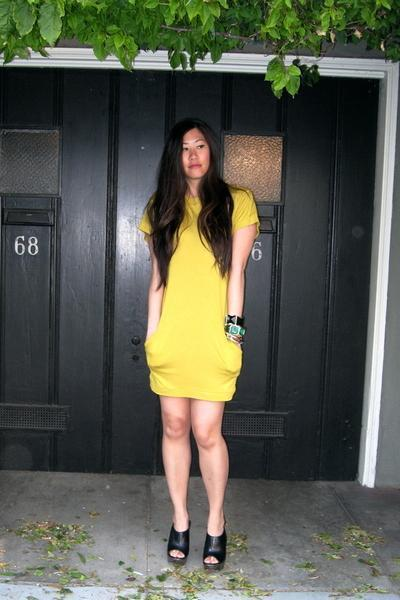dress: (145, 193, 259, 403)
shoe: (167, 524, 227, 569)
